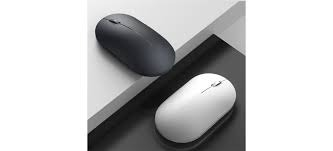mouse: (91, 8, 182, 84), (152, 70, 237, 144)
